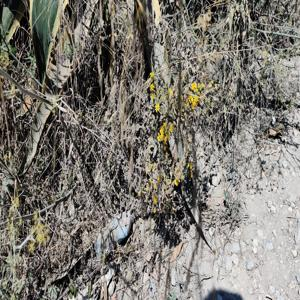plastic: (102, 205, 139, 242)
